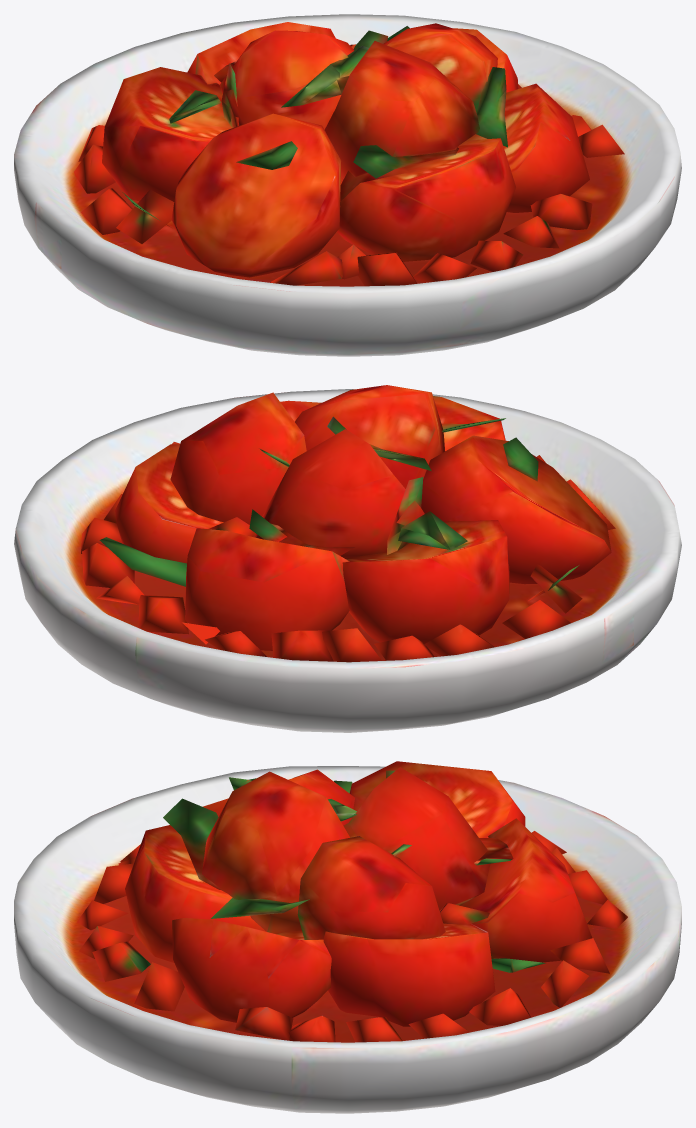
File: plate_dish.glb
3 renders of one model, top to bottom at view 1: azimuth 30°, elevation 25°; view 2: azimuth 150°, elevation 25°; view 3: azimuth 270°, elevation 25°, orthographic.
Bounding box in the file's own units: 1 × 0.3398 × 1.
1 material, 1 textured.
